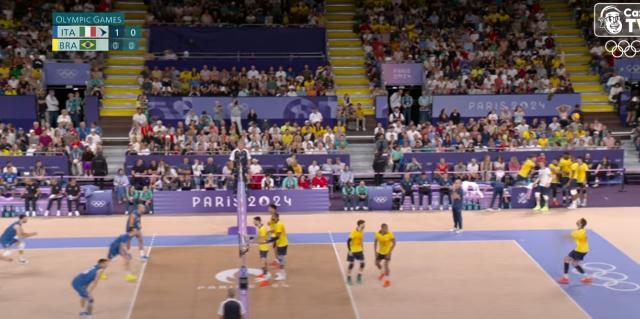Levantador: (348, 220, 367, 286)
bola: (572, 112, 580, 122)
